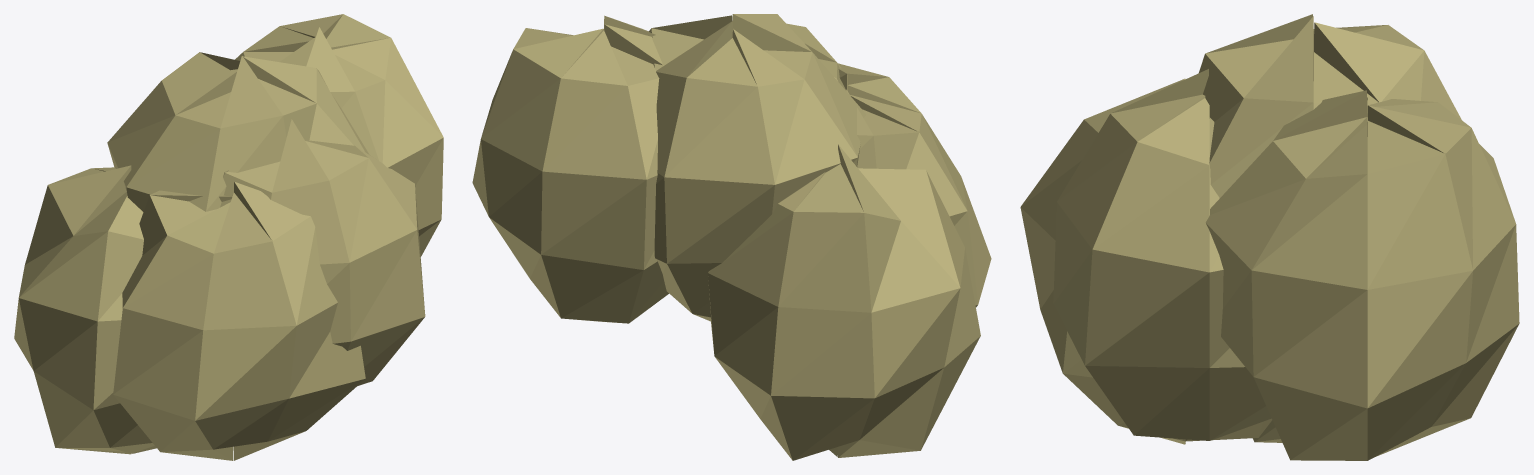
File: dry_shrub_variant_02.glb
3 views of the same model, side by side, from view 1: azimuth 30°, elevation 25°; view 2: azimuth 150°, elevation 25°; view 3: azimuth 270°, elevation 25° (orthographic). The views are drawn at different scales.
Parts seen in each view (by area): view 1: static_leaf_dry; view 2: static_leaf_dry; view 3: static_leaf_dry.
Boxes of the visible parts, x1=… form: static_leaf_dry: x1=14, y1=14, x2=443, y2=460; static_leaf_dry: x1=472, y1=14, x2=991, y2=460; static_leaf_dry: x1=1020, y1=14, x2=1519, y2=460.
Size of the model in its own units: 1.59 by 1.32 by 1.21.
